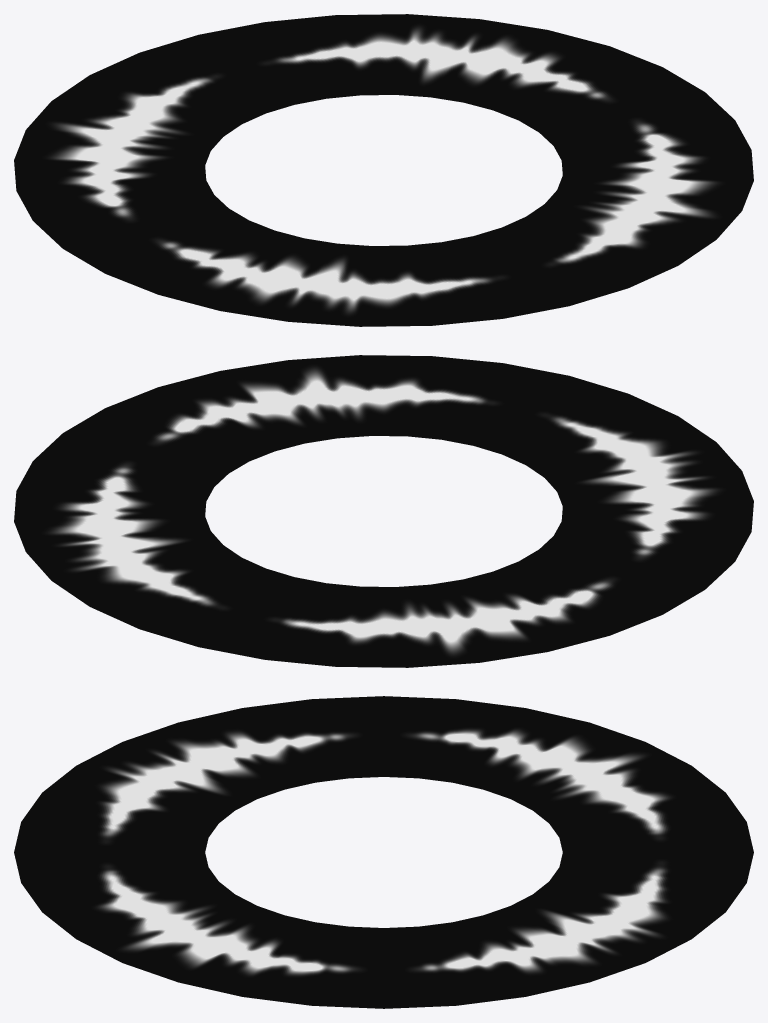
The model's file is Dix_02.fbx.
The picture shows the model from 3 angles, top to bottom: view 1: azimuth 30°, elevation 25°; view 2: azimuth 150°, elevation 25°; view 3: azimuth 270°, elevation 25°; orthographic projection.
Visible parts, largest first — view 1: pCylinder6; view 2: pCylinder6; view 3: pCylinder6.
Part boxes in pixels (left/top/right/bottom): pCylinder6: left=14, top=14, right=753, bottom=326; pCylinder6: left=14, top=355, right=753, bottom=667; pCylinder6: left=14, top=696, right=753, bottom=1008.
Size of the model in its own units: 3.42 by 0 by 3.42.
